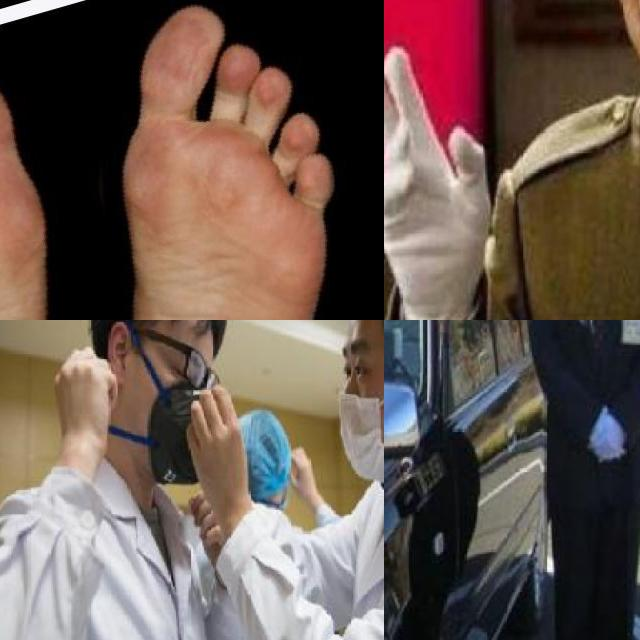Barefoots: (0, 0, 384, 320), (0, 23, 168, 320)
face_mask: (131, 320, 217, 497), (330, 320, 384, 491)
glasses: (151, 330, 234, 393)
hand_glove: (384, 33, 494, 318), (589, 408, 623, 462)
hand_noglove: (184, 382, 247, 501), (53, 345, 118, 439), (188, 490, 222, 553), (287, 442, 311, 502)
person: (0, 320, 271, 640), (434, 0, 640, 320), (248, 320, 384, 640), (526, 320, 640, 640)
